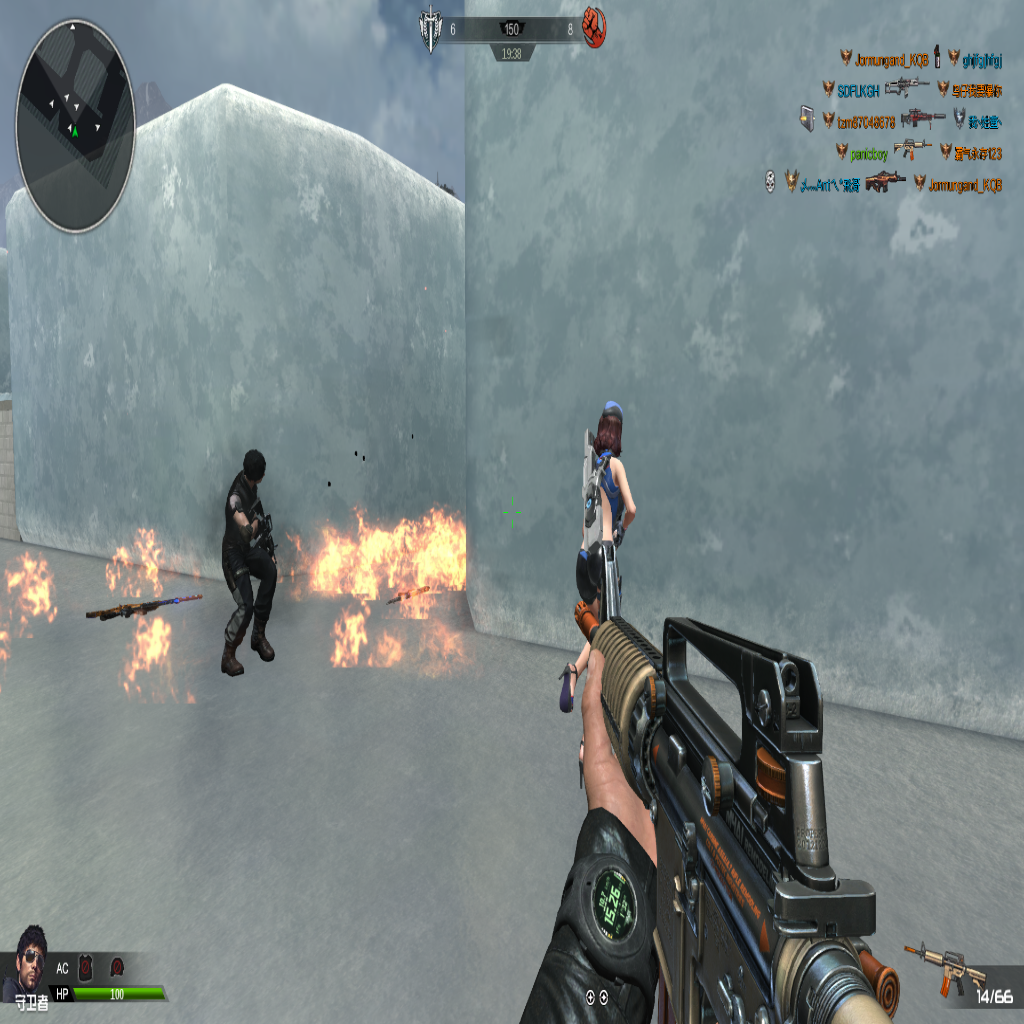ct: (220, 443, 278, 681), (579, 399, 631, 604)
